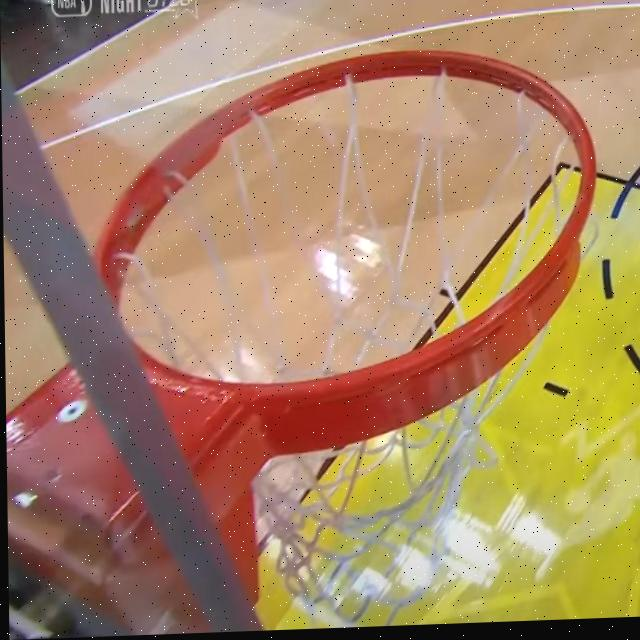hoop: (95, 118, 600, 549)
